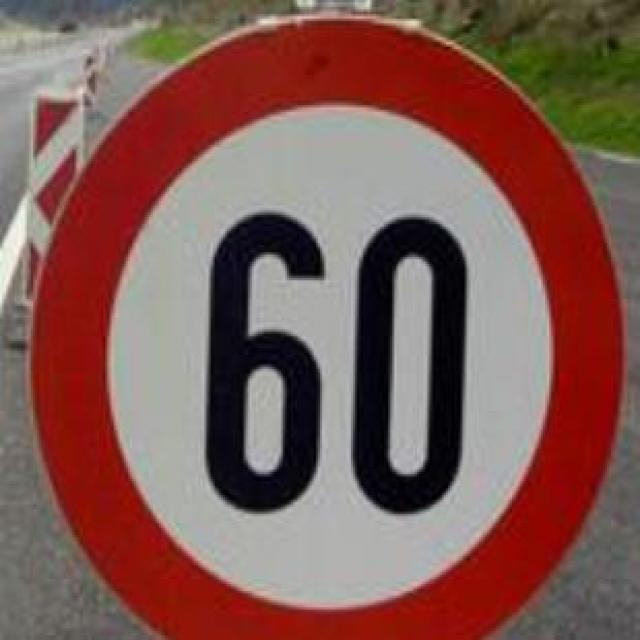speed_limit_60: (29, 14, 623, 638)
